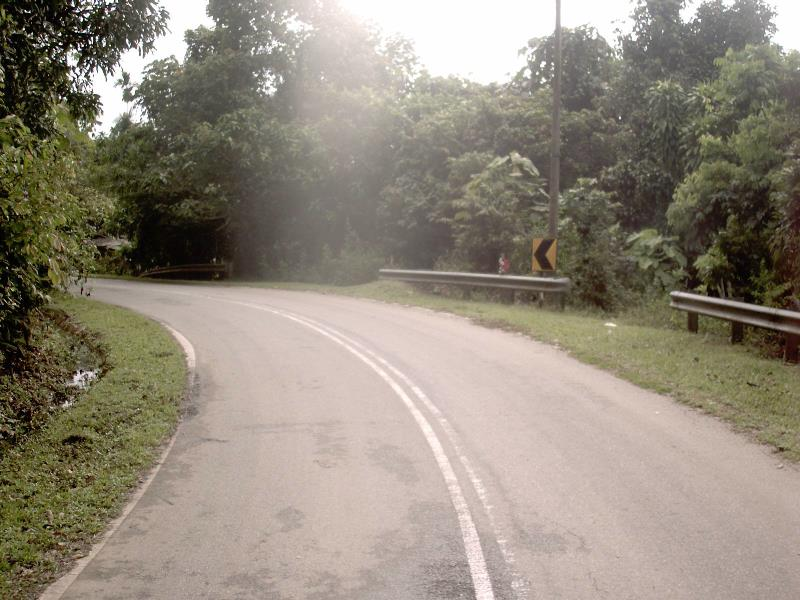traffic_sign: (524, 226, 563, 278)
